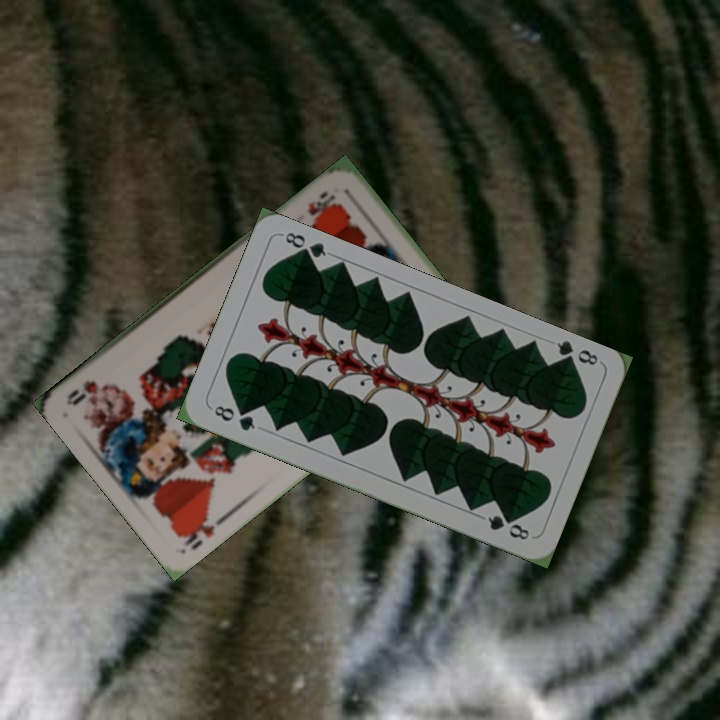G8: (552, 337, 601, 371), (210, 401, 258, 434)
HO: (175, 510, 230, 553), (303, 187, 338, 219)
